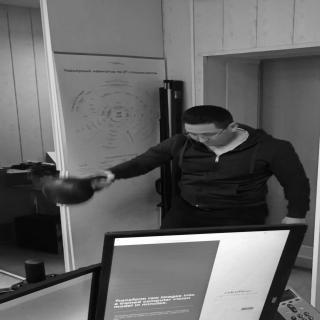kettlebell: (40, 171, 116, 209)
